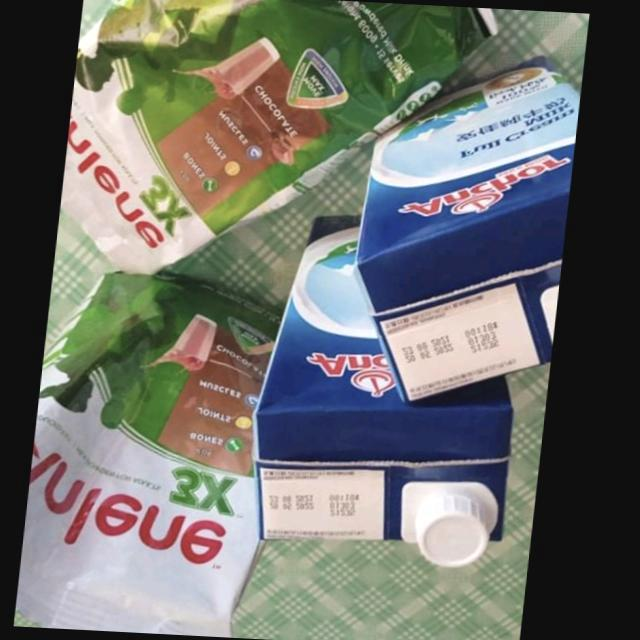food_wrapper: (62, 0, 500, 273), (22, 271, 285, 638)
